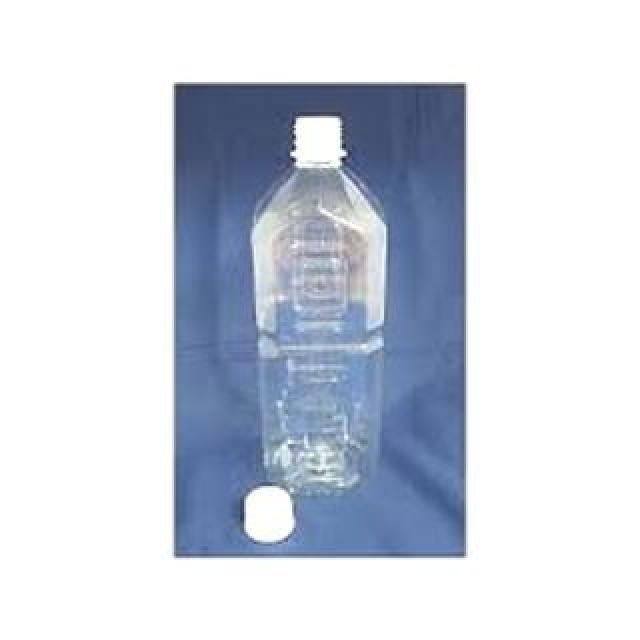Pet_Bottle: (252, 116, 390, 496)
